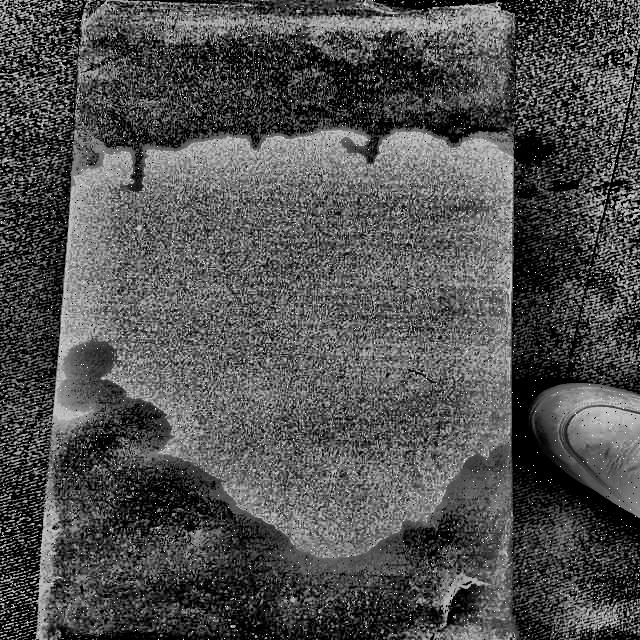box: (28, 0, 521, 639)
wet: (39, 344, 512, 638), (35, 7, 529, 163)
